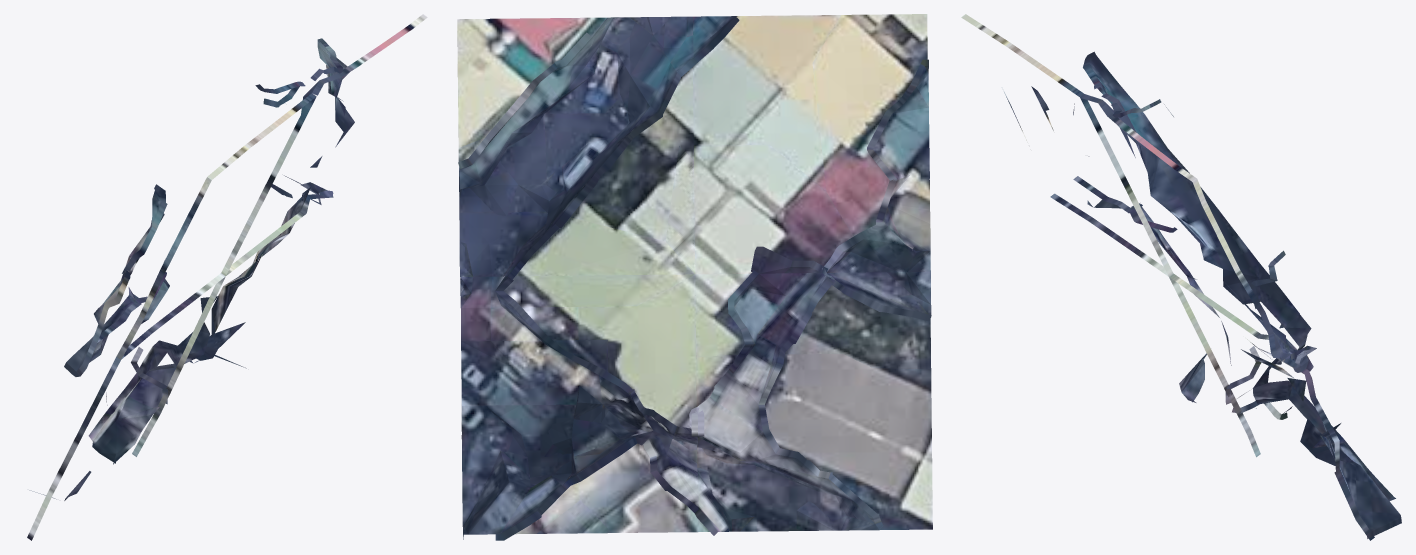
3 renders of one model, left to right at view 1: azimuth 30°, elevation 25°; view 2: azimuth 150°, elevation 25°; view 3: azimuth 270°, elevation 25°, orthographic. The views are drawn at different scales.
Size of the model in its own units: 38.28 by 36.31 by 34.01.
Materials: 1 (1 with a texture image).
